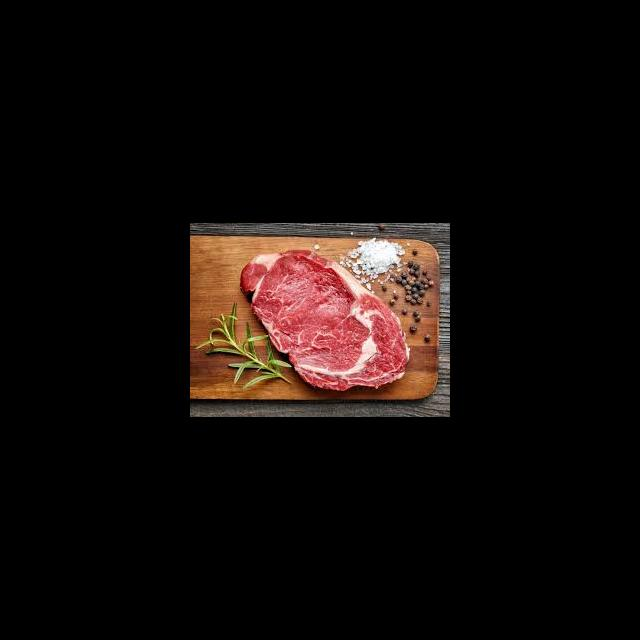beef: (237, 247, 415, 395)
